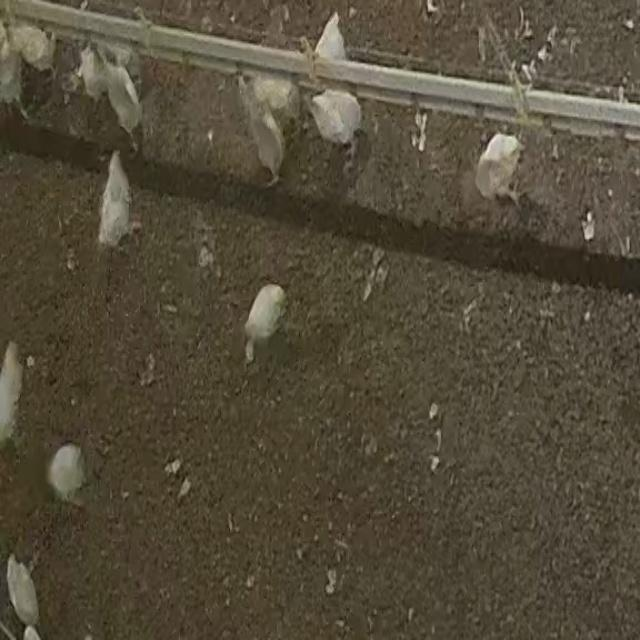chicken: (301, 88, 364, 171), (93, 149, 139, 249), (242, 93, 284, 189), (469, 136, 527, 199), (1, 552, 45, 628), (99, 52, 139, 131), (0, 338, 28, 449), (0, 22, 32, 117), (44, 444, 91, 508), (243, 282, 288, 344), (12, 22, 60, 76)
